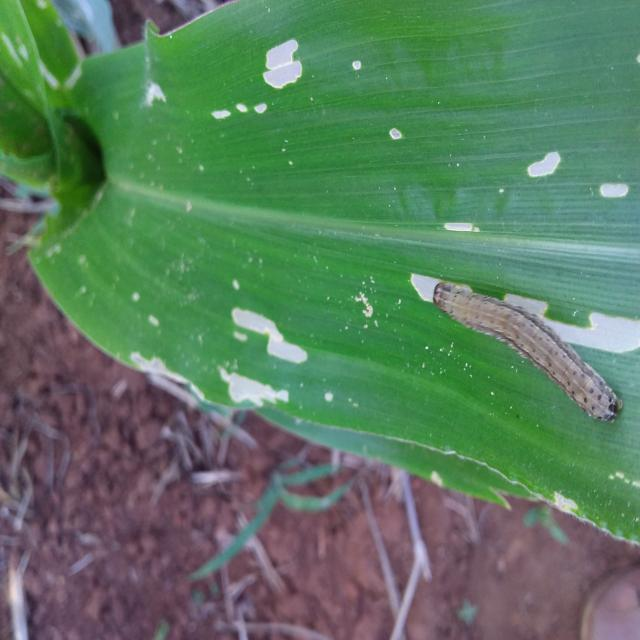yellow-stem-borer-larva: (413, 253, 640, 437)
